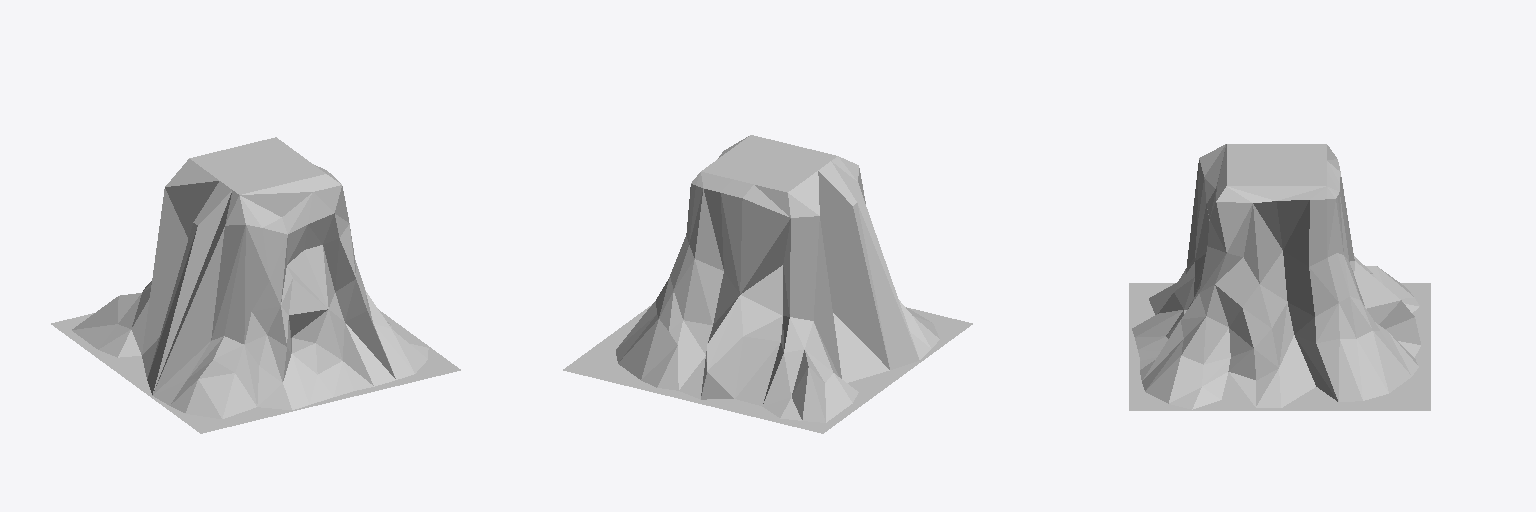
File: Ground.obj
3 renders of one model, left to right at view 1: azimuth 30°, elevation 25°; view 2: azimuth 150°, elevation 25°; view 3: azimuth 270°, elevation 25°, orthographic.
Visible parts, largest first — view 1: Retopo_Cube.001_mesh.003; view 2: Retopo_Cube.001_mesh.003; view 3: Retopo_Cube.001_mesh.003.
Part boxes in pixels (x1,y1,x2,y2): Retopo_Cube.001_mesh.003: (51, 137, 460, 433); Retopo_Cube.001_mesh.003: (563, 135, 972, 433); Retopo_Cube.001_mesh.003: (1129, 144, 1430, 410).
Size of the model in its own units: 6 by 4 by 6.